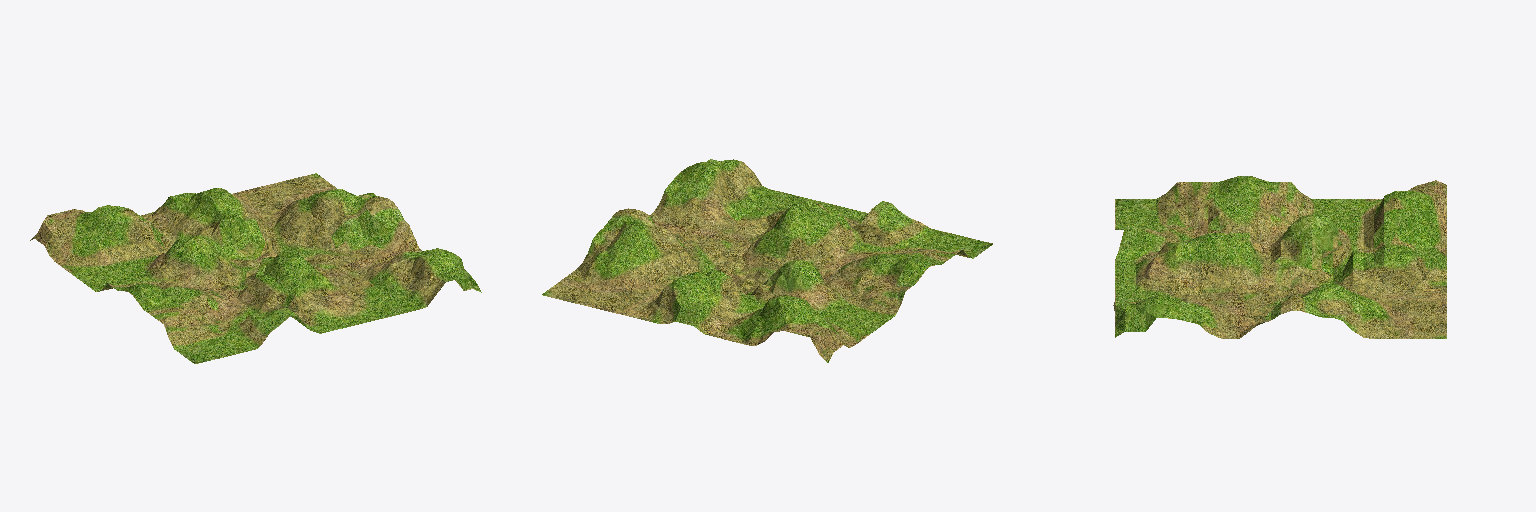
3 renders of one model, left to right at view 1: azimuth 30°, elevation 25°; view 2: azimuth 150°, elevation 25°; view 3: azimuth 270°, elevation 25°, orthographic.
Visible parts, largest first — view 1: Plane; view 2: Plane; view 3: Plane.
Boxes of the visible parts, box(x1,y1,x2,y2) form: Plane: box(30, 173, 481, 363); Plane: box(542, 159, 992, 362); Plane: box(1113, 176, 1446, 338).
Bounding box in the file's own units: 42.64 × 6.81 × 42.85.
Materials: 1 (1 with a texture image).